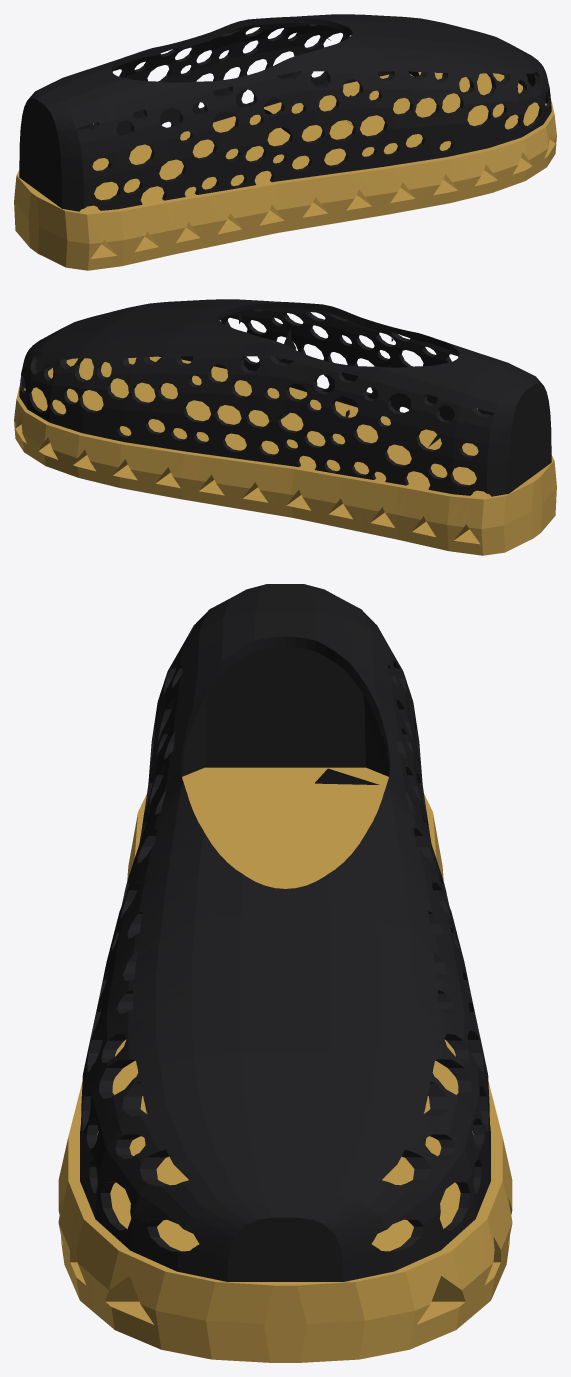
File: voronoi.glb
The picture shows the model from 3 angles, top to bottom: view 1: azimuth 30°, elevation 25°; view 2: azimuth 150°, elevation 25°; view 3: azimuth 270°, elevation 25°; orthographic projection. The views are drawn at different scales.
Visible parts, largest first — view 1: voronoi_upper, voronoi_sole; view 2: voronoi_upper, voronoi_sole; view 3: voronoi_upper, voronoi_sole.
Part boxes in pixels (left/top/right/bottom): voronoi_upper: left=19, top=14, right=551, bottom=211; voronoi_sole: left=14, top=72, right=556, bottom=270; voronoi_upper: left=19, top=299, right=551, bottom=496; voronoi_sole: left=14, top=356, right=556, bottom=555; voronoi_upper: left=80, top=584, right=490, bottom=1281; voronoi_sole: left=58, top=767, right=512, bottom=1362.
Size of the model in its own units: 0.3 by 0.0893 by 0.117.
